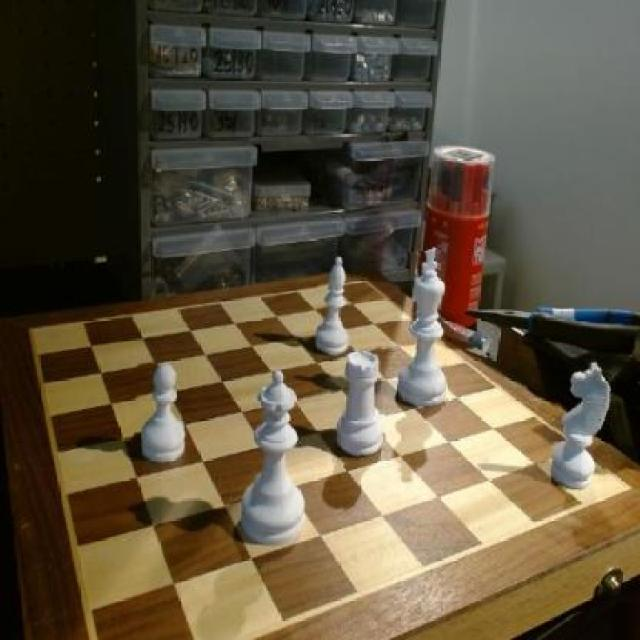black-rook: (317, 257, 353, 354)
white-bishop: (398, 251, 446, 409)
white-king: (552, 361, 610, 497)
white-knight: (135, 363, 190, 466)
white-pawn: (242, 374, 306, 543)
white-queen: (331, 349, 386, 466)
